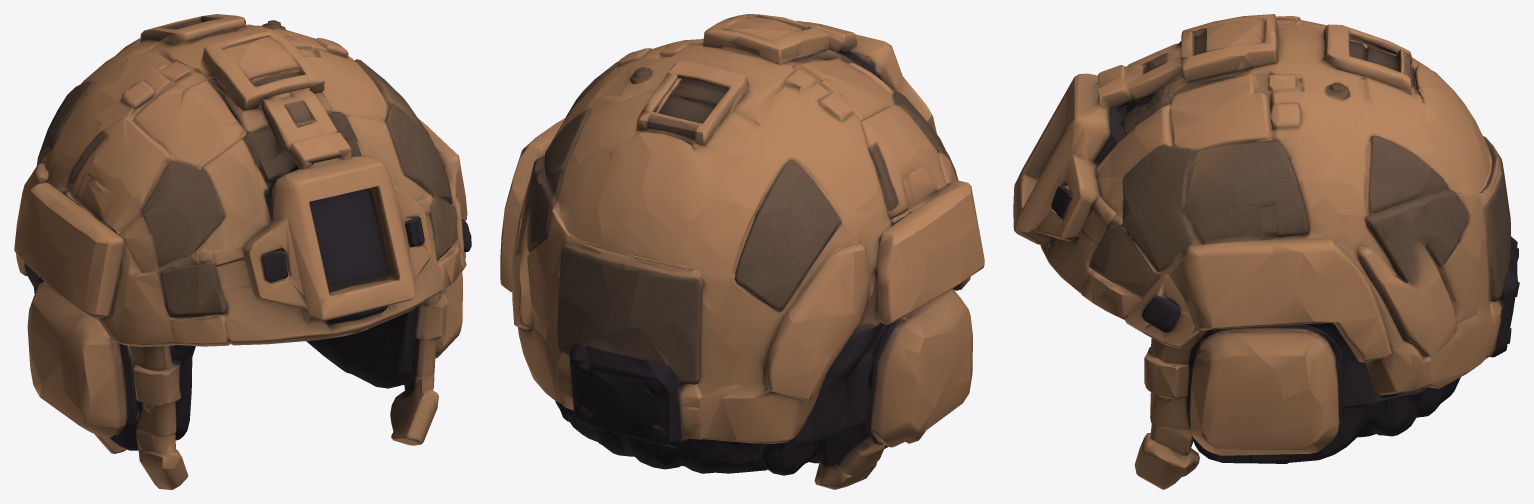
The model's file is Helmet.glb.
The picture shows the model from 3 angles, left to right: view 1: azimuth 30°, elevation 25°; view 2: azimuth 150°, elevation 25°; view 3: azimuth 270°, elevation 25°; orthographic projection. The views are drawn at different scales.
Parts seen in each view (by area): view 1: Helmet_low; view 2: Helmet_low; view 3: Helmet_low.
Boxes of the visible parts, left/top/right/bottom form: Helmet_low: left=14, top=14, right=471, bottom=489; Helmet_low: left=500, top=14, right=984, bottom=489; Helmet_low: left=1013, top=14, right=1519, bottom=489.
Size of the model in its own units: 0.4033 by 0.3913 by 0.4448.
Materials: 1 (1 with a texture image).
